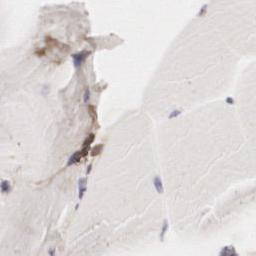nucleus: (160, 220, 169, 242), (154, 176, 163, 196), (79, 180, 87, 199), (168, 109, 182, 119), (222, 245, 235, 255), (1, 180, 10, 194), (198, 3, 208, 15), (73, 55, 81, 68), (69, 151, 76, 163), (83, 88, 89, 101), (226, 96, 234, 104), (49, 247, 55, 256), (88, 164, 91, 172), (75, 204, 78, 208)
positive_cell: (68, 134, 94, 164)
